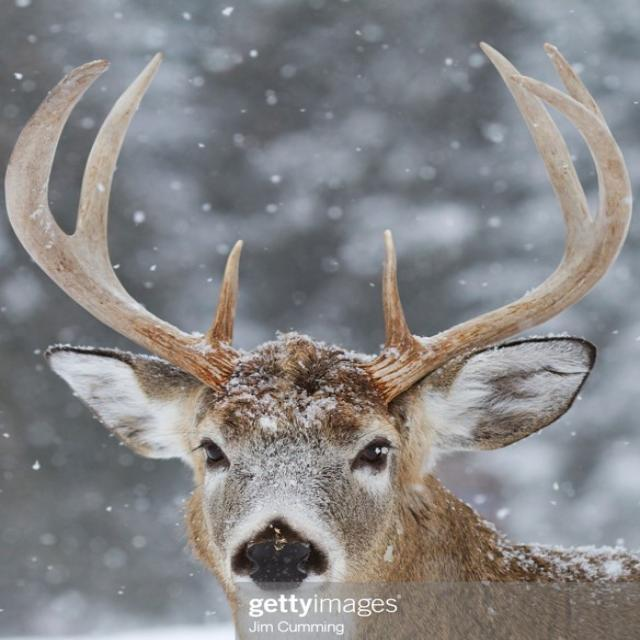L-F: (352, 73, 635, 406)
L-G1: (380, 226, 414, 347)
R-F: (4, 59, 240, 392)
R-G1: (204, 239, 244, 346)
R-G2: (74, 51, 164, 243)
